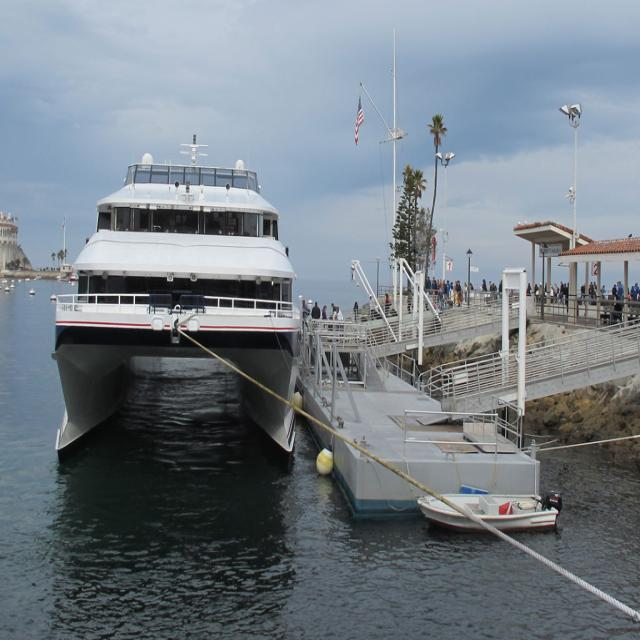passenger ship: (50, 148, 302, 466)
